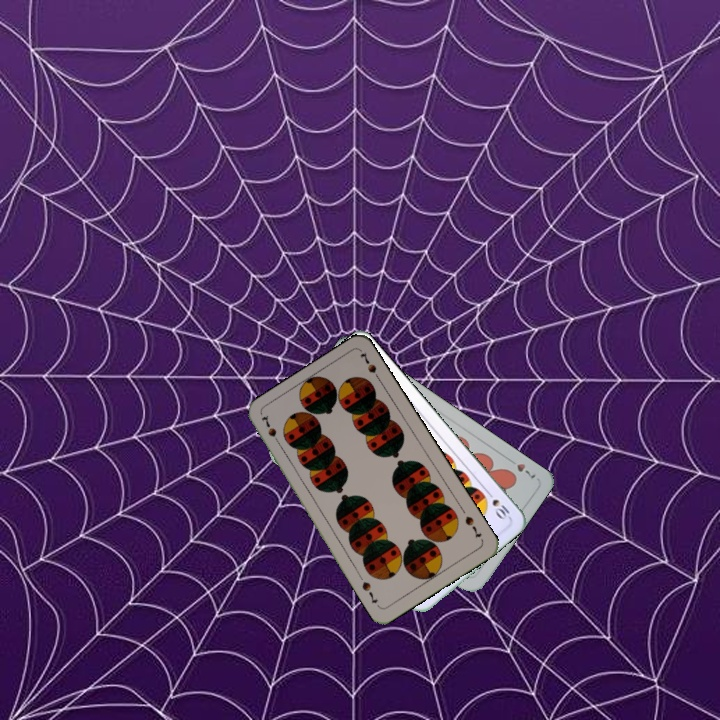H7: (504, 454, 539, 481)
S10: (482, 486, 512, 522)
S7: (461, 512, 484, 541), (263, 423, 284, 449)
